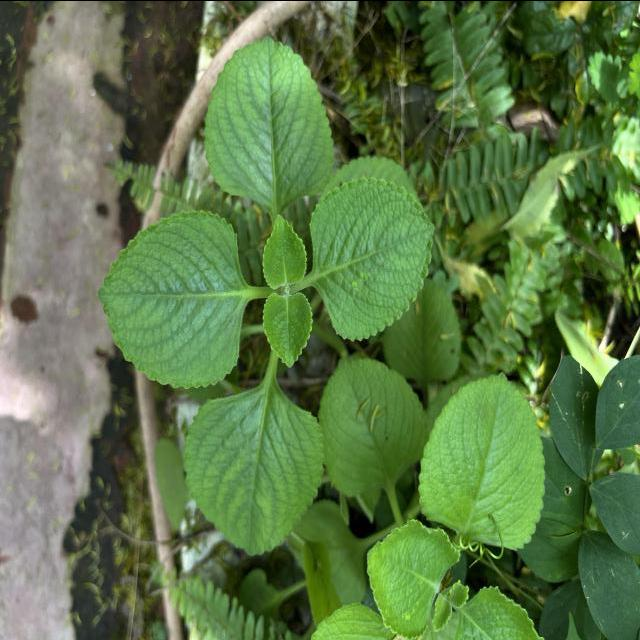Plectranthus barbatus: (93, 206, 250, 392), (182, 382, 327, 556), (416, 368, 547, 550), (202, 33, 337, 206), (308, 174, 438, 341), (318, 354, 430, 497), (365, 517, 463, 640), (261, 291, 314, 369), (260, 212, 308, 290)
